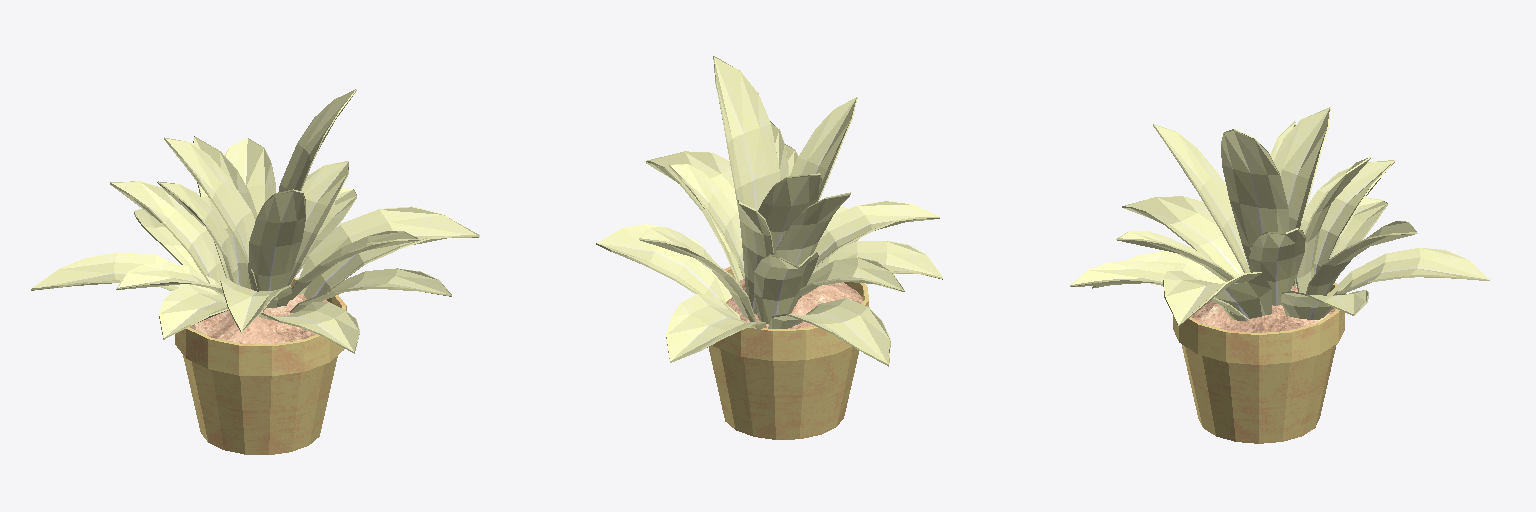
3 renders of one model, left to right at view 1: azimuth 30°, elevation 25°; view 2: azimuth 150°, elevation 25°; view 3: azimuth 270°, elevation 25°, orthographic.
Visible parts, largest first — view 1: Potted_plants; view 2: Potted_plants; view 3: Potted_plants.
Part boxes in pixels (x1,y1,x2,y2): Potted_plants: (31, 89, 479, 454); Potted_plants: (596, 56, 942, 439); Potted_plants: (1070, 107, 1489, 443).
Bounding box in the file's own units: 2.61 × 2.37 × 2.73.
Materials: 1 (1 with a texture image).